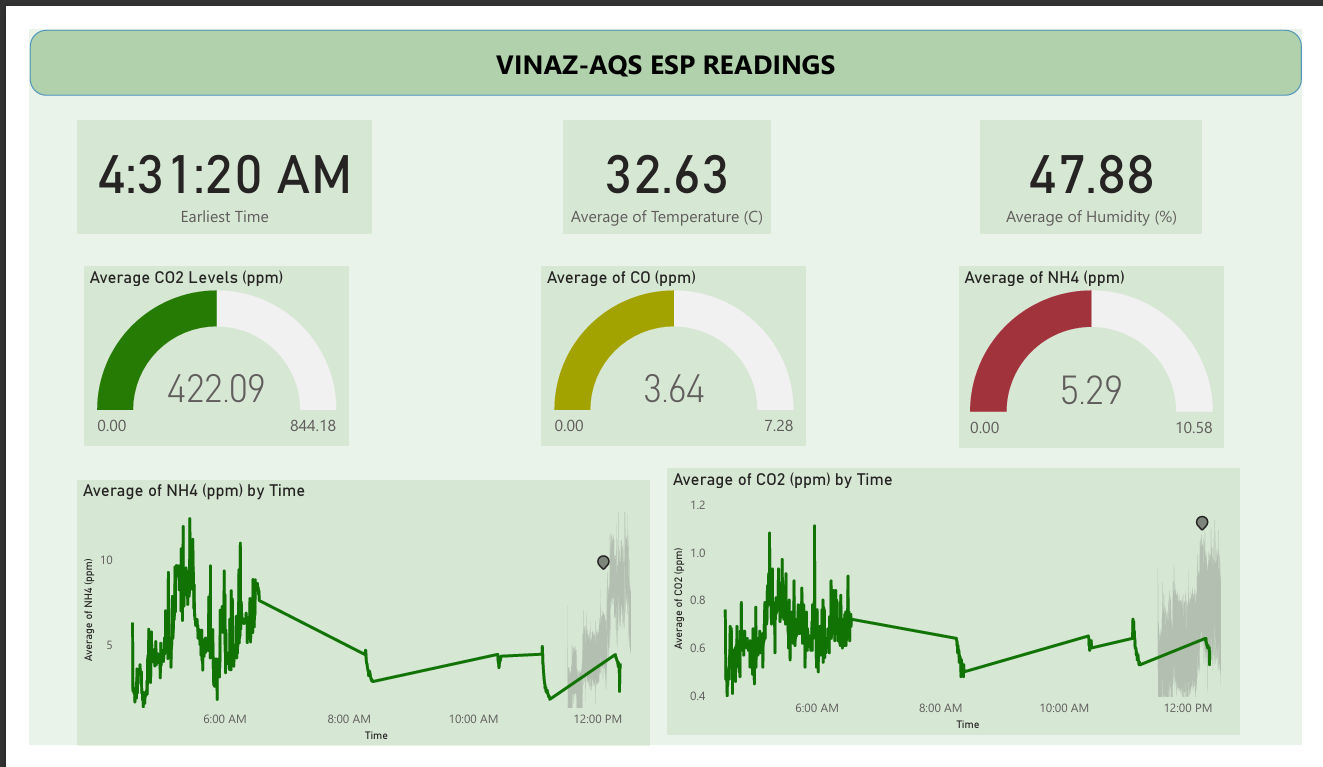

What the dashboard file says about the page in this screenshot:
{"tool":"powerbi","page":{"name":"Page 1","canvas":[1280,720],"ordinal":0},"visuals":[{"type":"card","fields":{"Values":["Avg(ESP Readings.Temperature (C))"]},"box":[537.3,92.2,208.7,113.7],"z":0},{"type":"card","fields":{"Values":["Avg(ESP Readings.Humidity (%))"]},"box":[957.3,92.2,223,113.7],"z":1000},{"type":"card","fields":{"Values":["Min(ESP Readings.Time)"]},"box":[48.4,92.2,295.5,113.7],"z":2000},{"type":"gauge","title":"Average CO2 Levels (ppm)","fields":{"Y":["Sum(ESP Readings.CO2 (ppm))"]},"box":[55.5,238.2,266,180.9],"z":3000},{"type":"gauge","fields":{"Y":["Avg(ESP Readings.CO (ppm))"]},"box":[515.8,238.2,266,180.9],"z":4000},{"type":"gauge","fields":{"Y":["Avg(ESP Readings.NH4 (ppm))"]},"box":[935.8,238.2,266,182.7],"z":5000},{"type":"lineChart","fields":{"Y":["Avg(ESP Readings.NH4 (ppm))"],"Category":["ESP Readings.Time"]},"box":[47.9,453.1,575.8,267.4],"z":6000},{"type":"lineChart","fields":{"Y":["Avg(ESP Readings.CO2 (ppm))"],"Category":["ESP Readings.Time"]},"box":[642,442,576,268],"z":7000},{"type":"shape","box":[0,0,1279.7,66.3],"z":8000}]}

Visuals, with their boxes in screenshot pixels (x1, y1, x2, y2), scaled from the page's 1280x720 canvas onto the 1323x767 screenshot:
card - Avg(ESP Readings.Temperature (C)): Rect(555, 98, 771, 219)
card - Avg(ESP Readings.Humidity (%)): Rect(989, 98, 1220, 219)
card - Min(ESP Readings.Time): Rect(50, 98, 355, 219)
"Average CO2 Levels (ppm)" gauge: Rect(57, 254, 332, 446)
gauge - Avg(ESP Readings.CO (ppm)): Rect(533, 254, 808, 446)
gauge - Avg(ESP Readings.NH4 (ppm)): Rect(967, 254, 1242, 448)
lineChart - Avg(ESP Readings.NH4 (ppm)) x ESP Readings.Time: Rect(50, 483, 645, 766)
lineChart - Avg(ESP Readings.CO2 (ppm)) x ESP Readings.Time: Rect(664, 471, 1259, 756)
shape: Rect(0, 0, 1322, 71)
